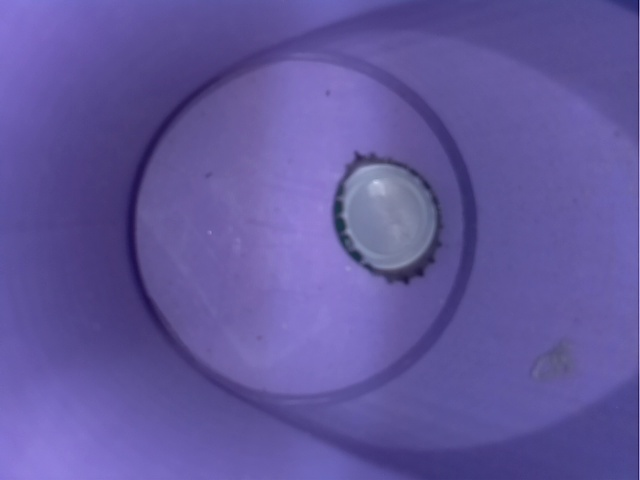capsule: (299, 140, 465, 296)
